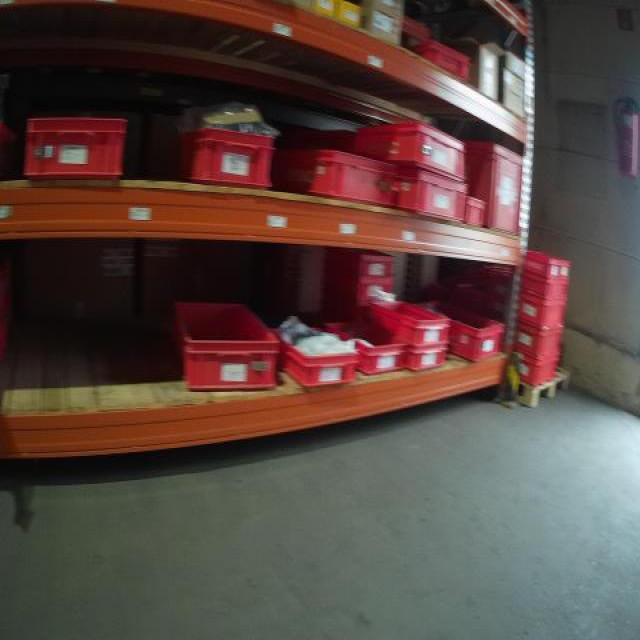pallet: (507, 369, 576, 410)
small_load_carrier: (171, 295, 282, 387), (274, 139, 403, 218), (355, 114, 468, 185), (24, 113, 130, 184), (416, 296, 505, 369), (465, 139, 526, 238), (172, 130, 276, 188), (273, 313, 354, 387), (396, 164, 470, 225), (369, 298, 451, 344), (338, 313, 399, 374), (421, 38, 474, 84), (321, 278, 396, 310), (328, 251, 397, 280), (520, 250, 574, 283), (400, 342, 451, 376), (512, 356, 566, 388), (515, 300, 566, 331), (520, 275, 570, 301), (515, 330, 566, 355), (463, 195, 486, 229)
